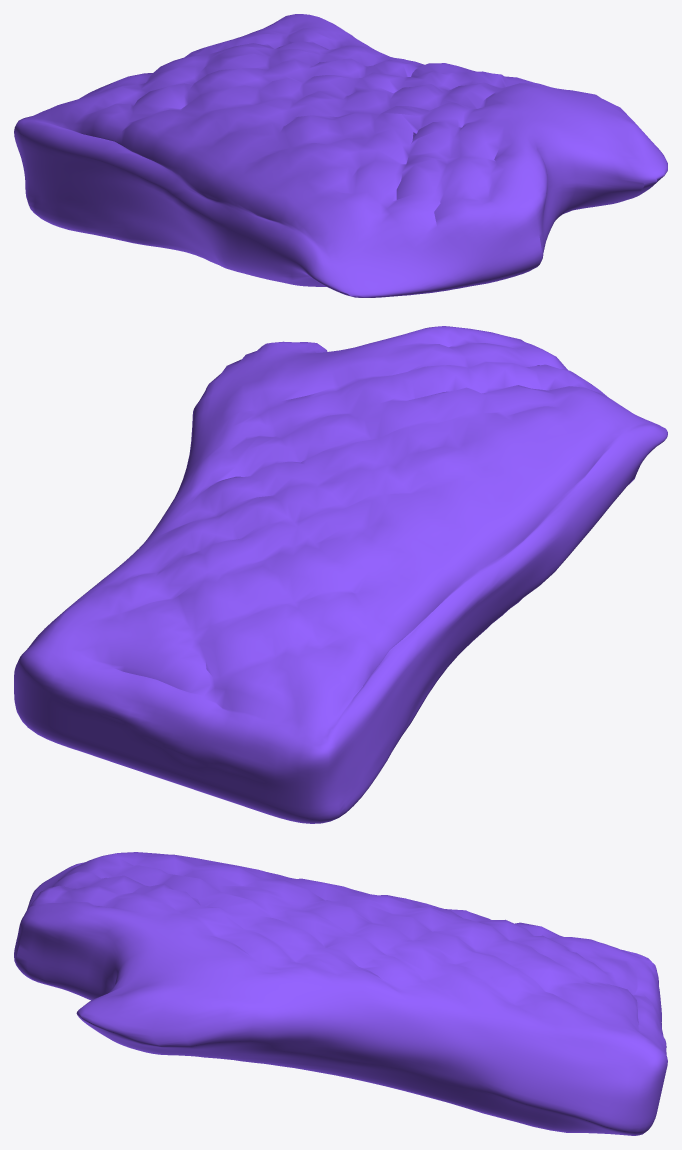
The model's file is mitt.fbx.
3 views of the same model, one above another, from view 1: azimuth 30°, elevation 25°; view 2: azimuth 150°, elevation 25°; view 3: azimuth 270°, elevation 25° (orthographic). The views are drawn at different scales.
Visible parts, largest first — view 1: Cube; view 2: Cube; view 3: Cube.
Part boxes in pixels (x1,y1,x2,y2): Cube: (14, 14, 667, 297); Cube: (14, 326, 667, 823); Cube: (14, 852, 667, 1135).
Size of the model in its own units: 153 by 90.43 by 249.
